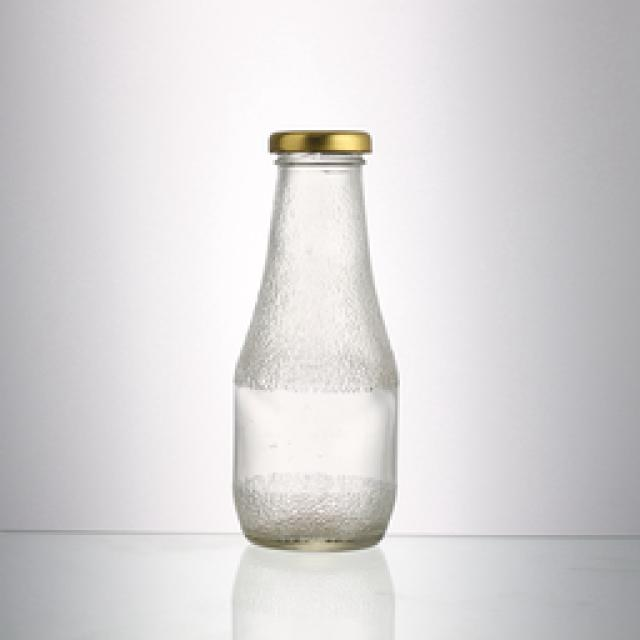glass_beverage_bottles: (230, 120, 403, 557)
